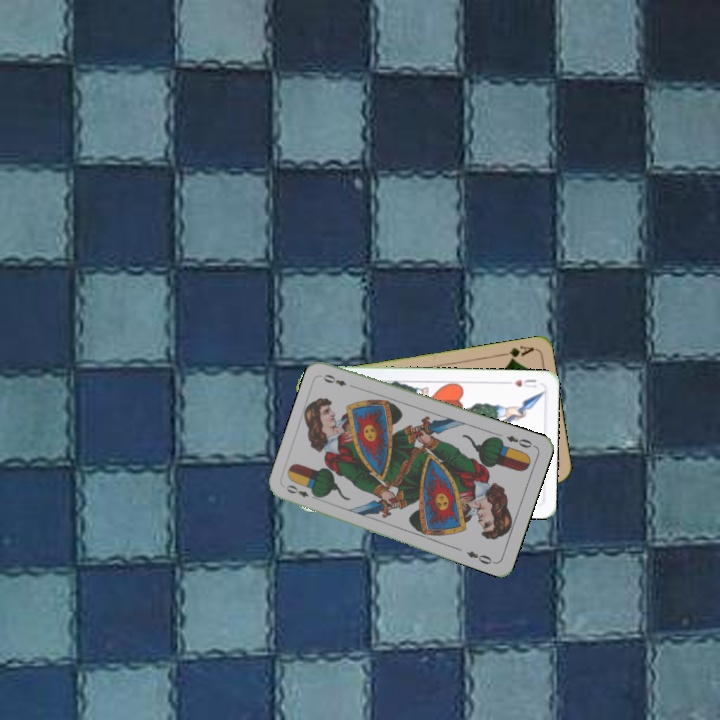EO: (282, 481, 321, 502), (502, 431, 535, 451)
GA: (496, 342, 537, 363)
HU: (502, 375, 539, 390)
